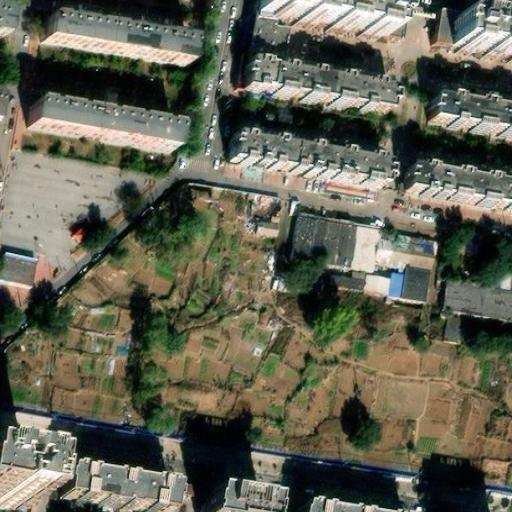building: (213, 118, 372, 168), (231, 46, 381, 98), (19, 100, 169, 149), (36, 10, 182, 60), (251, 0, 384, 44), (395, 148, 512, 193), (58, 467, 170, 512), (286, 216, 372, 274), (421, 76, 512, 122), (442, 282, 512, 319), (450, 24, 512, 63), (368, 230, 429, 269), (306, 497, 399, 512), (0, 461, 25, 504), (199, 496, 263, 512), (399, 266, 425, 303), (443, 312, 465, 345), (361, 273, 386, 300), (249, 218, 279, 236), (383, 276, 402, 302)
